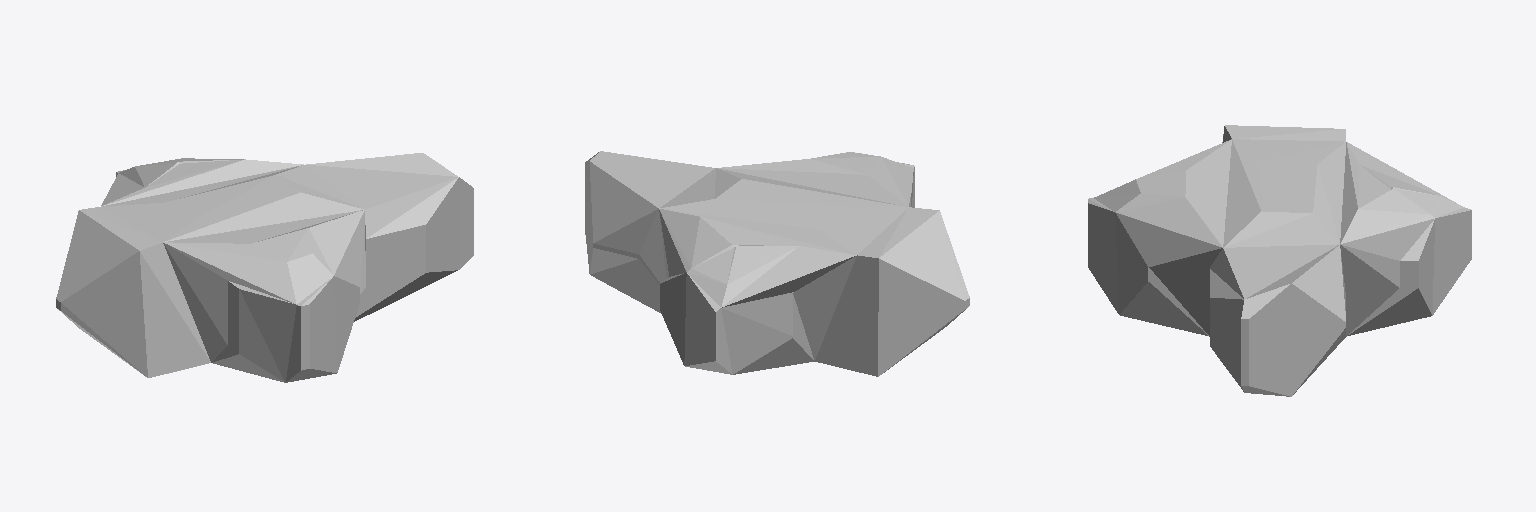
Rendered from rock model midterm 1.obj.
3 views of the same model, side by side, from view 1: azimuth 30°, elevation 25°; view 2: azimuth 150°, elevation 25°; view 3: azimuth 270°, elevation 25° (orthographic).
Visible parts, largest first — view 1: Cube; view 2: Cube; view 3: Cube.
Part boxes in pixels (left/top/right/bottom): Cube: left=56, top=153, right=473, bottom=382; Cube: left=585, top=151, right=969, bottom=376; Cube: left=1088, top=125, right=1471, bottom=396.
Size of the model in its own units: 3.48 by 1.03 by 2.91.